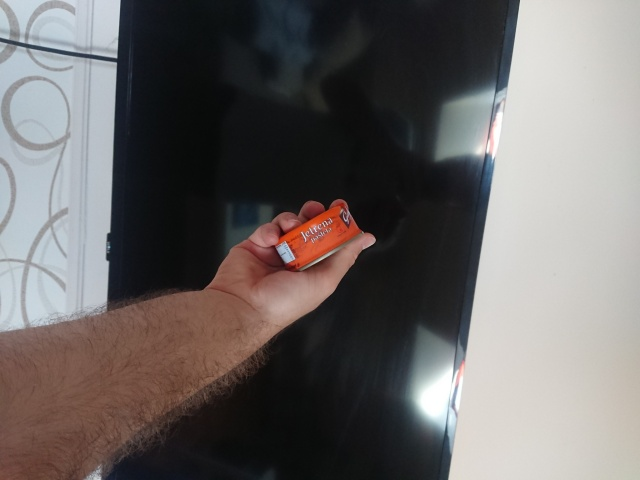Gavrilovic Pork Liver Pate 100g: (271, 201, 365, 274)
